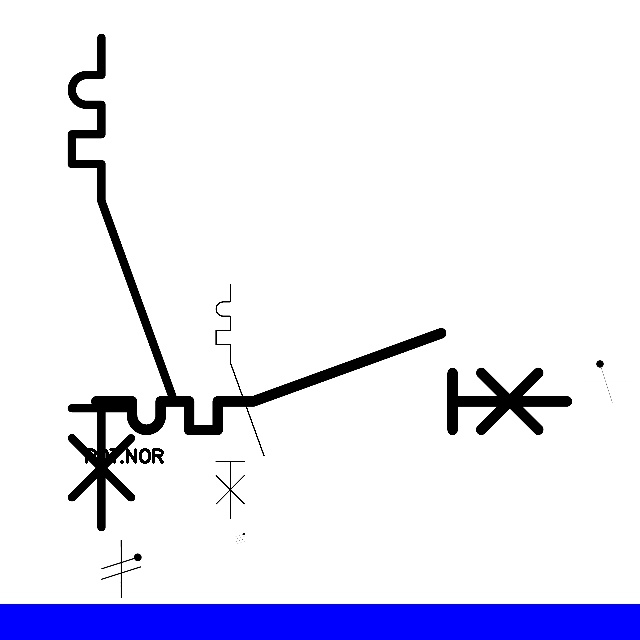interruptor_termomagnetico: (59, 25, 185, 540), (84, 321, 579, 442), (210, 278, 270, 524)
